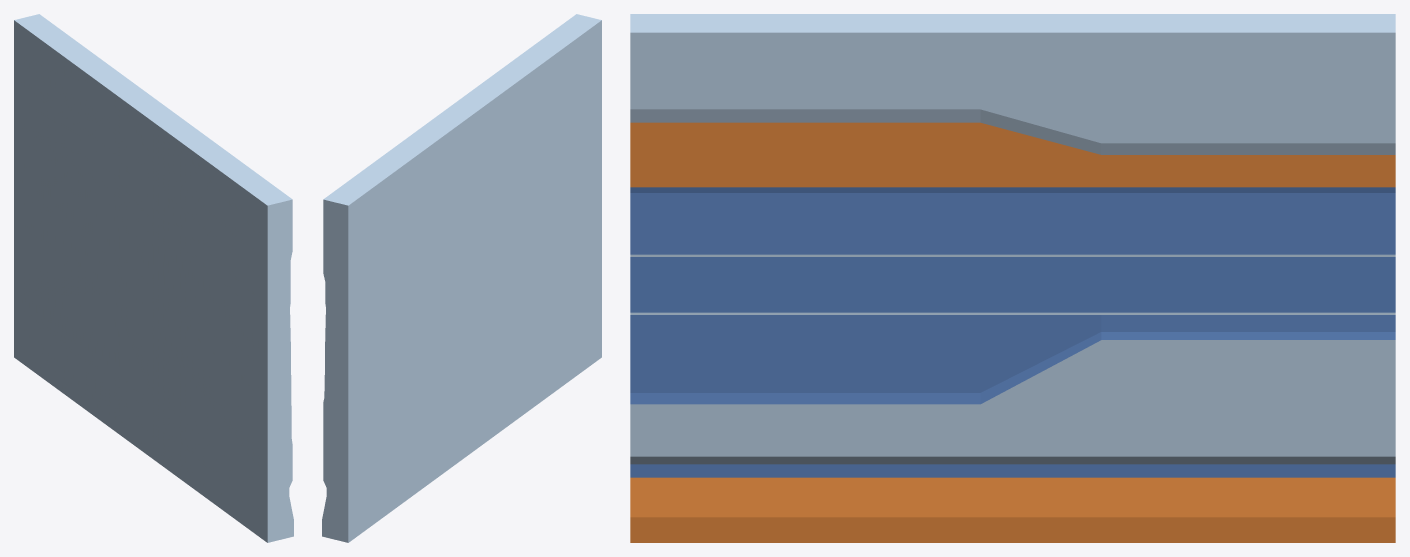
The model's file is wall.glb.
The picture shows the model from 3 angles, left to right: view 1: azimuth 30°, elevation 25°; view 2: azimuth 150°, elevation 25°; view 3: azimuth 270°, elevation 25°; orthographic projection. The views are drawn at different scales.
Visible parts, largest first — view 1: Cube; view 2: Cube; view 3: Cube.
Part boxes in pixels (<box>): Cube: <box>14,14,293,542</box>; Cube: <box>322,14,601,542</box>; Cube: <box>630,14,1395,542</box>.
Bounding box in the file's own units: 0.2281 × 2.79 × 3.8.
